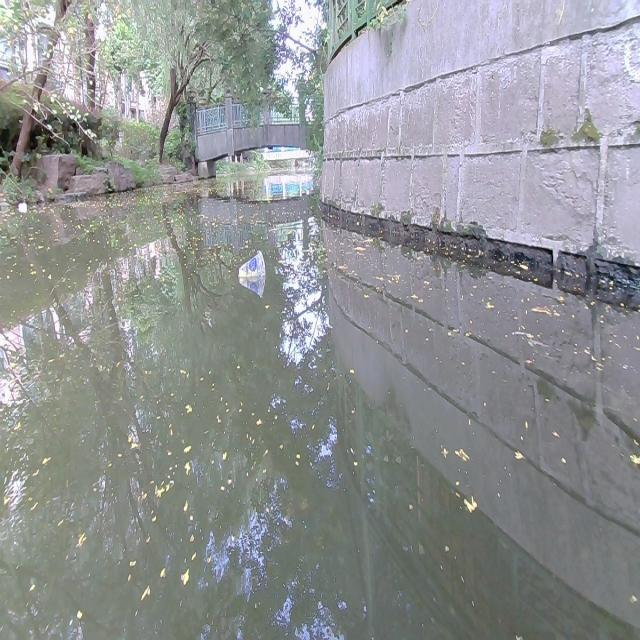bottle: (234, 253, 265, 279), (16, 197, 28, 211)
